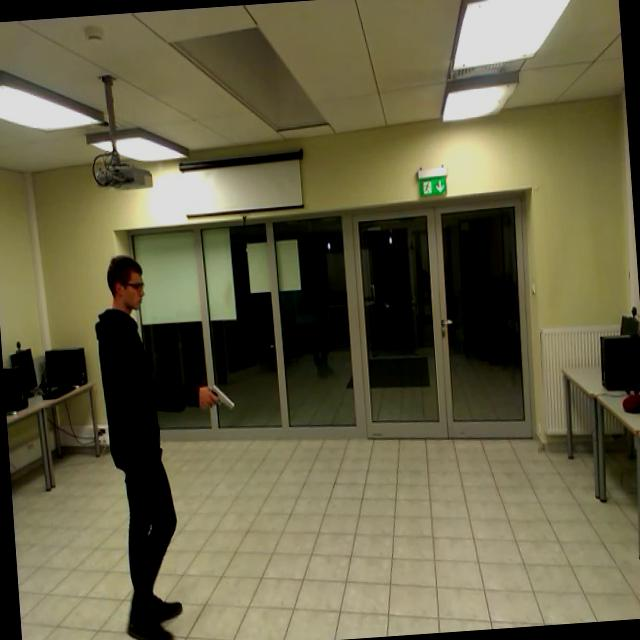handgun: (207, 378, 239, 418)
